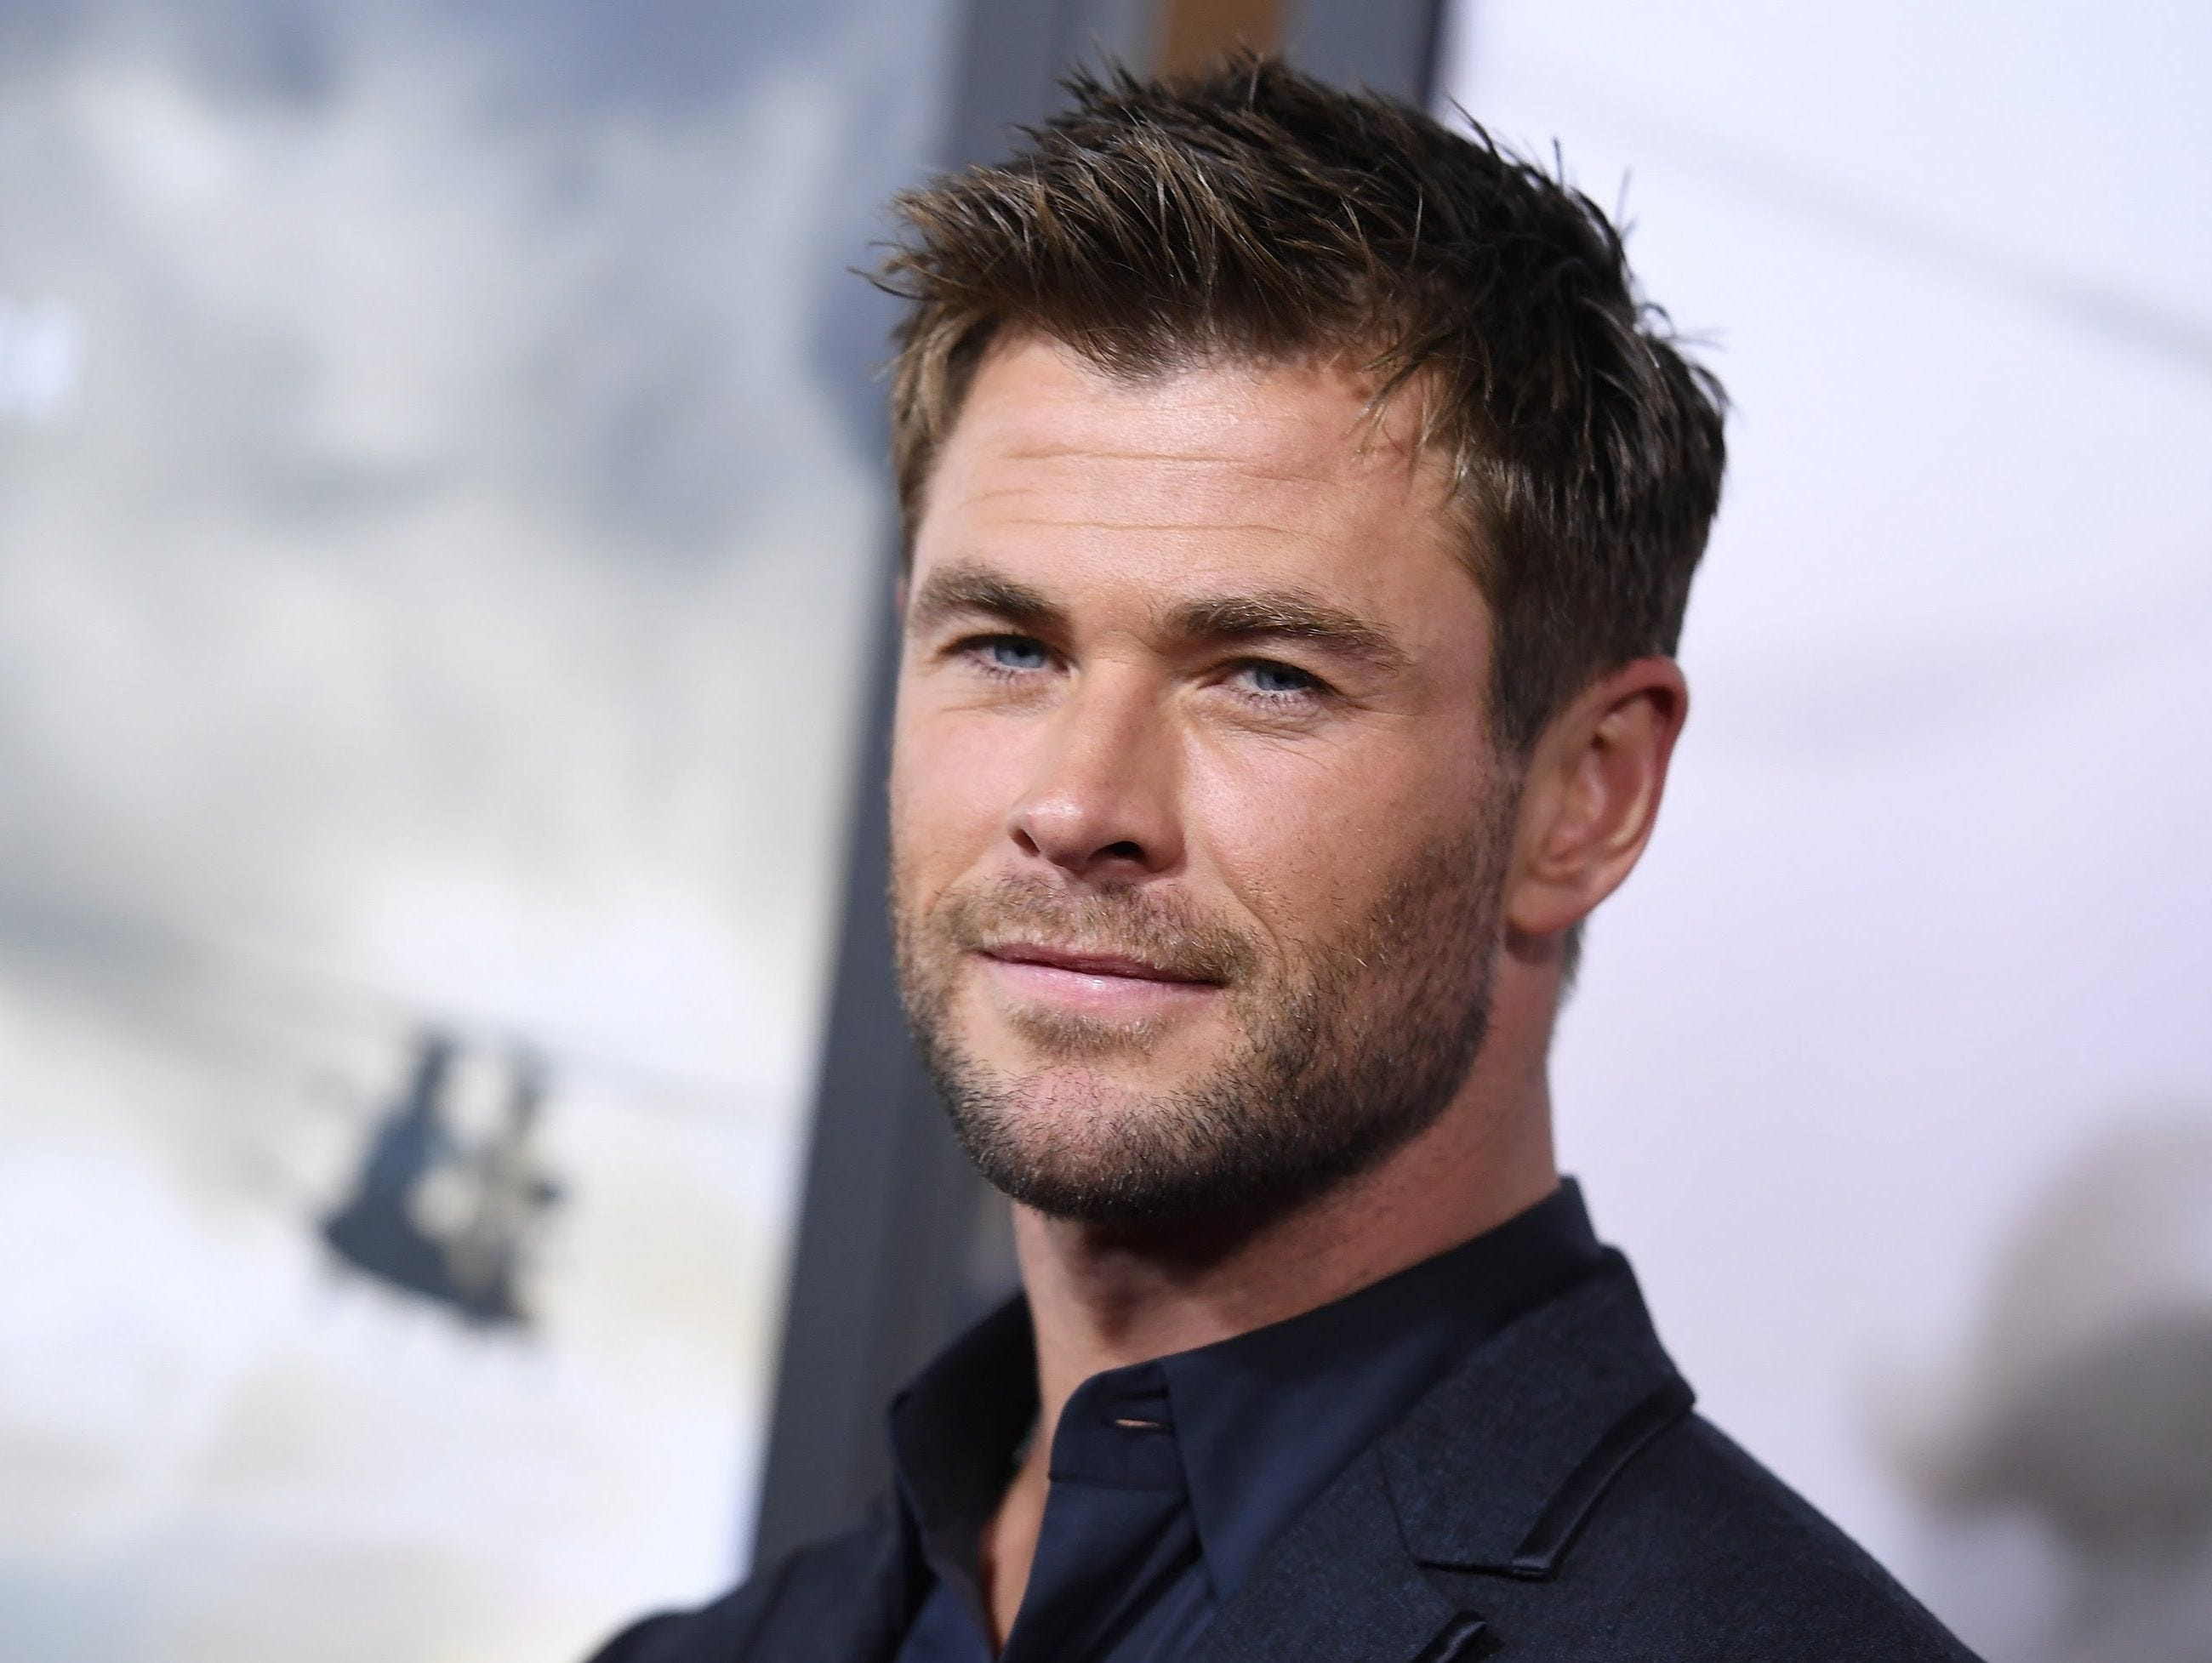bad: (814, 437, 1494, 1116)
